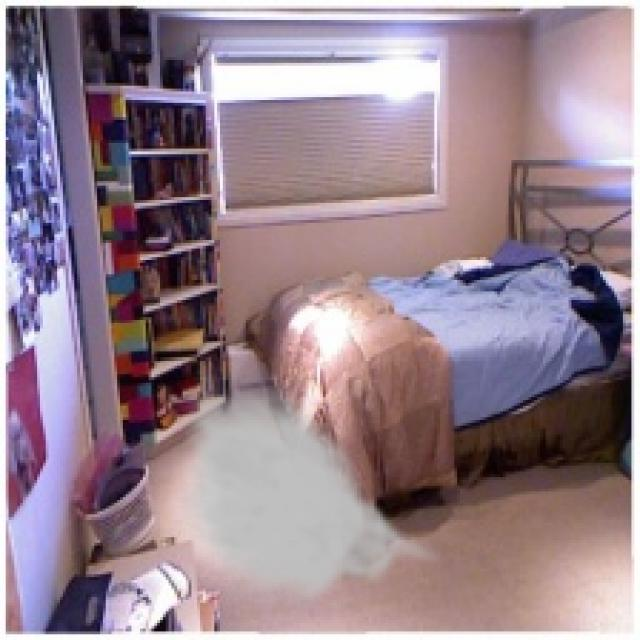smoke: (172, 374, 448, 612)
